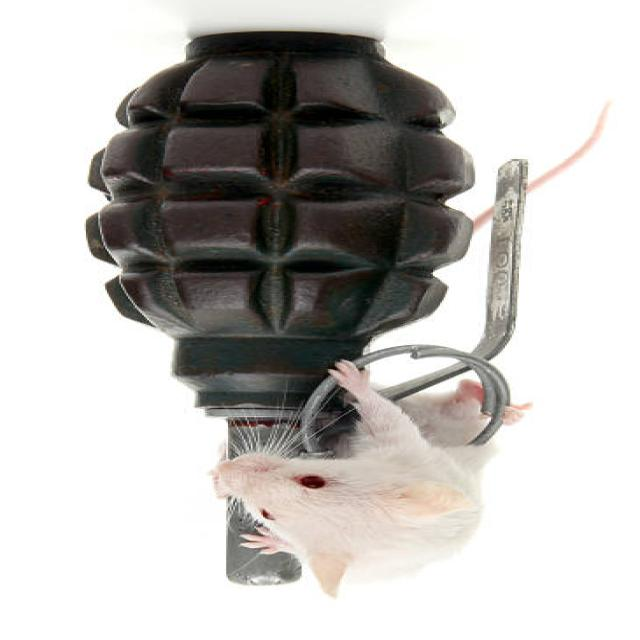grenade: (68, 26, 541, 597)
